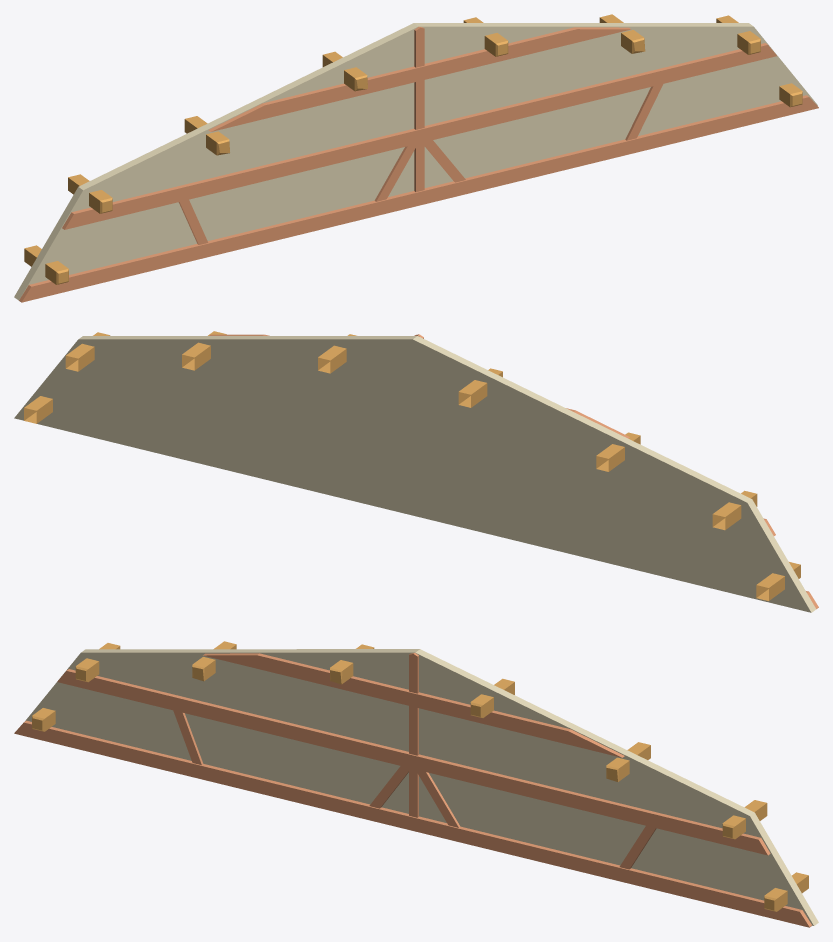
File: Gable_large1.fbx
The picture shows the model from 3 angles, top to bottom: view 1: azimuth 30°, elevation 25°; view 2: azimuth 150°, elevation 25°; view 3: azimuth 330°, elevation 25°; orthographic projection.
Visible parts, largest first — view 1: Gable_large1_wall_low, Gable_large1_woodplank_low, Gable_large1_woodbeam_low; view 2: Gable_large1_wall_low, Gable_large1_woodbeam_low; view 3: Gable_large1_wall_low, Gable_large1_woodplank_low, Gable_large1_woodbeam_low.
Boxes of the visible parts, x1,y1,x2,y2 form: Gable_large1_wall_low: (14, 23, 817, 300); Gable_large1_woodplank_low: (19, 26, 818, 302); Gable_large1_woodbeam_low: (24, 14, 802, 284); Gable_large1_wall_low: (14, 336, 816, 612); Gable_large1_woodbeam_low: (24, 331, 800, 600); Gable_large1_wall_low: (25, 649, 818, 925); Gable_large1_woodplank_low: (14, 653, 811, 927); Gable_large1_woodbeam_low: (32, 641, 808, 911).
Bounding box in the file's own units: 1849 × 391 × 132.
